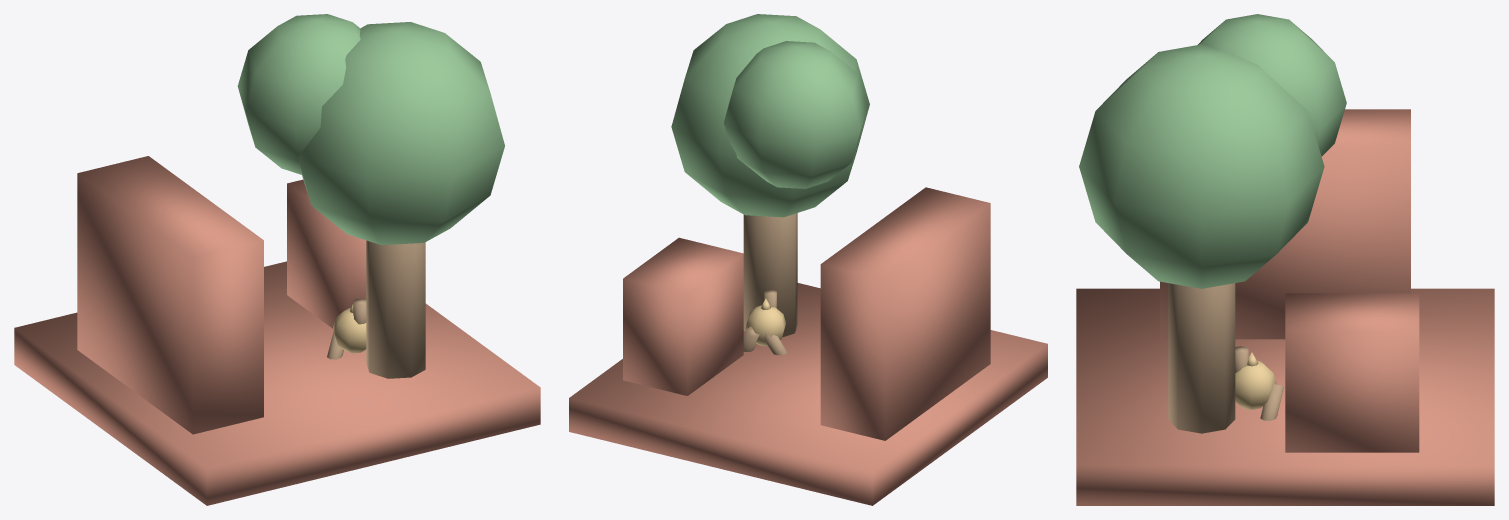
Rendered from wat_mahathat.glb.
3 renders of one model, left to right at view 1: azimuth 30°, elevation 25°; view 2: azimuth 150°, elevation 25°; view 3: azimuth 270°, elevation 25°, orthographic. The views are drawn at different scales.
Parts seen in each view (by area): view 1: base, ruin_wall_l, tree_leaves1, tree_leaves2, tree_trunk, ruin_wall_r, buddha_head; view 2: base, ruin_wall_l, tree_leaves2, ruin_wall_r, tree_leaves1, tree_trunk, buddha_head; view 3: base, tree_leaves1, ruin_wall_l, ruin_wall_r, tree_trunk, tree_leaves2, buddha_head, root2.
Part boxes in pixels (x1,y1,x2,y2): base: (14,261,540,505); ruin_wall_l: (77,156,263,434); tree_leaves1: (298,22,504,245); tree_leaves2: (237,14,360,174); tree_trunk: (366,240,425,378); ruin_wall_r: (287,179,366,328); buddha_head: (333,308,366,353); base: (569,283,1047,505); ruin_wall_l: (820,187,990,440); tree_leaves2: (723,41,867,188); ruin_wall_r: (623,237,743,395); tree_leaves1: (671,14,869,217); tree_trunk: (743,213,797,337); buddha_head: (745,305,785,346); base: (1076,288,1494,505); tree_leaves1: (1079,44,1324,288); ruin_wall_l: (1160,109,1410,339); ruin_wall_r: (1285,293,1419,452); tree_trunk: (1168,283,1235,433); tree_leaves2: (1198,14,1346,156); buddha_head: (1235,360,1276,409); root2: (1260,383,1283,420).
Size of the model in its own units: 0.775 by 0.81 by 0.75.
